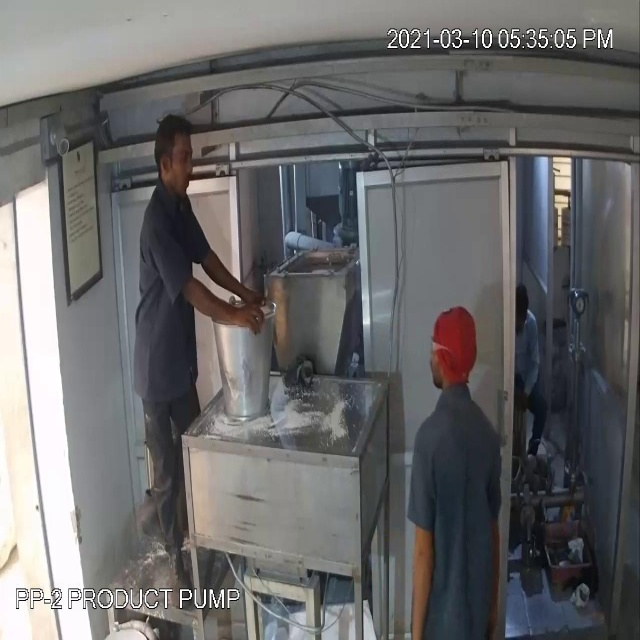Sin_guantes: (172, 265, 276, 348)
